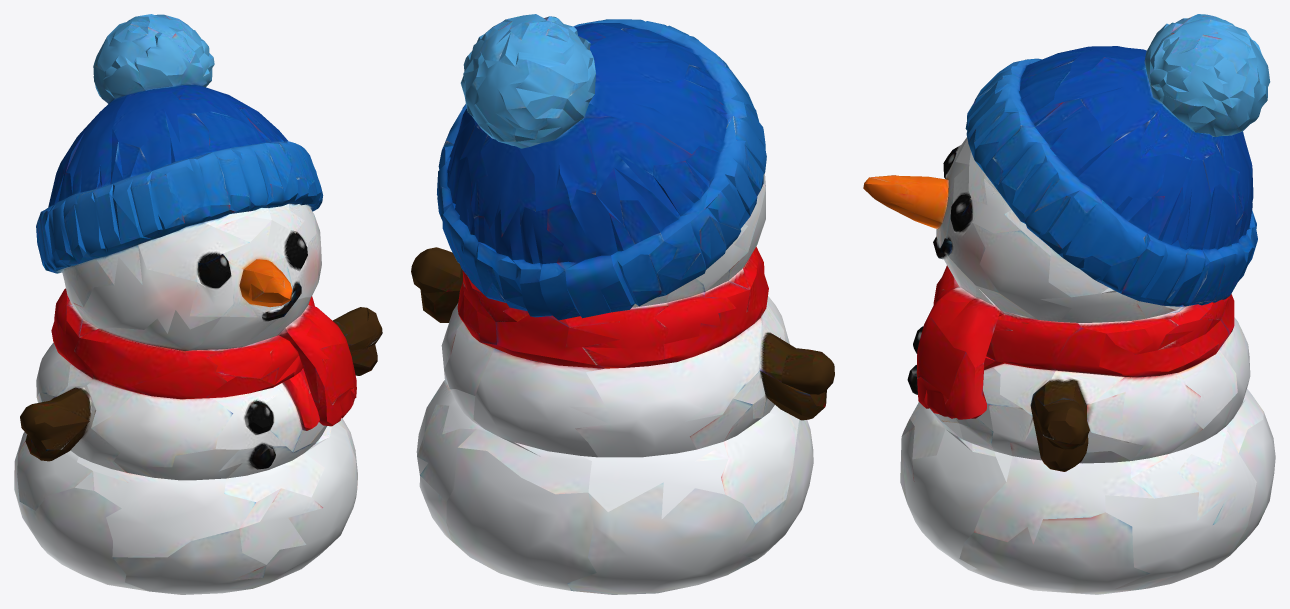
Rendered from sne-snemand.glb.
3 renders of one model, left to right at view 1: azimuth 30°, elevation 25°; view 2: azimuth 150°, elevation 25°; view 3: azimuth 270°, elevation 25°, orthographic. The views are drawn at different scales.
Size of the model in its own units: 1.48 by 1.9 by 1.35.
1 material, 1 textured.
